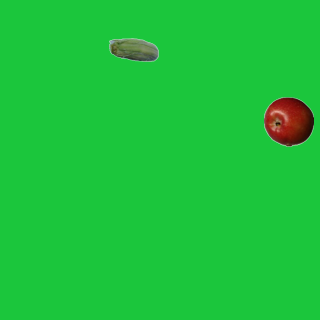Apple Braeburn: (263, 96, 313, 146)
Corn Husk: (108, 26, 158, 76)
